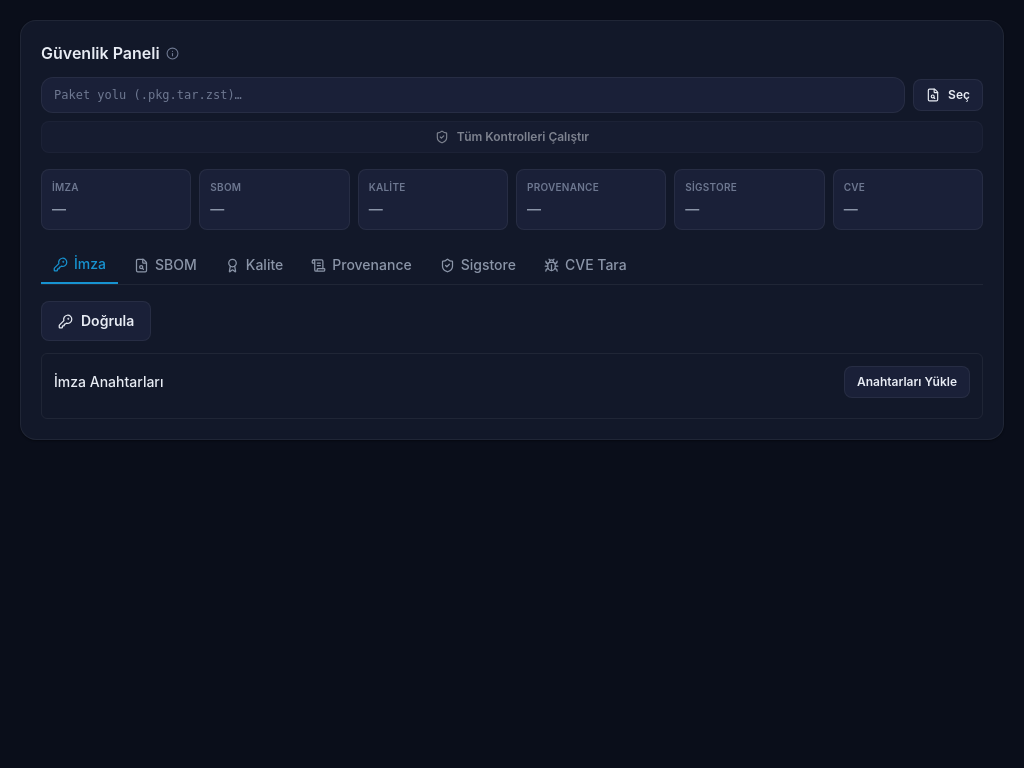
it: Security page — tab panelleri ve branch kapsami › yol olmadan dogrulama: toast gosterilir, RPC cagrilamaz
Expected: the button "Tüm Kontrolleri Çalıştır" is disabled, [41,121,983,153]
Click the button "Doğrula": (96, 321) [41,301,151,341]
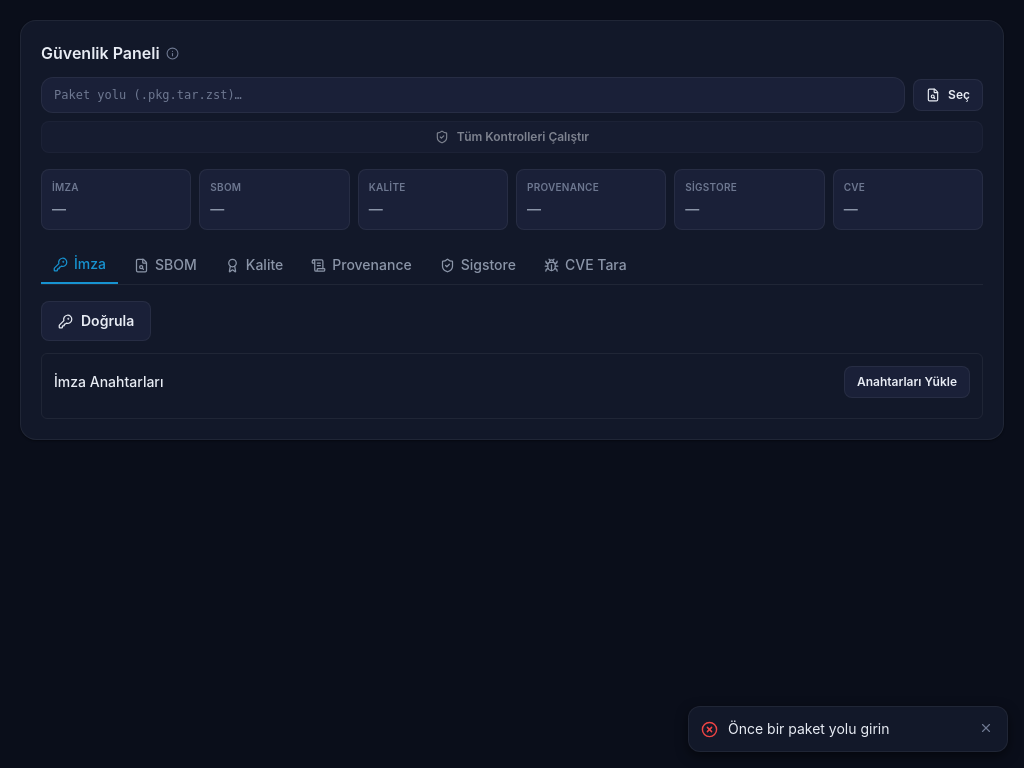
Expected: the text "Önce bir paket yolu girin" is shown, [728,720,890,737]
